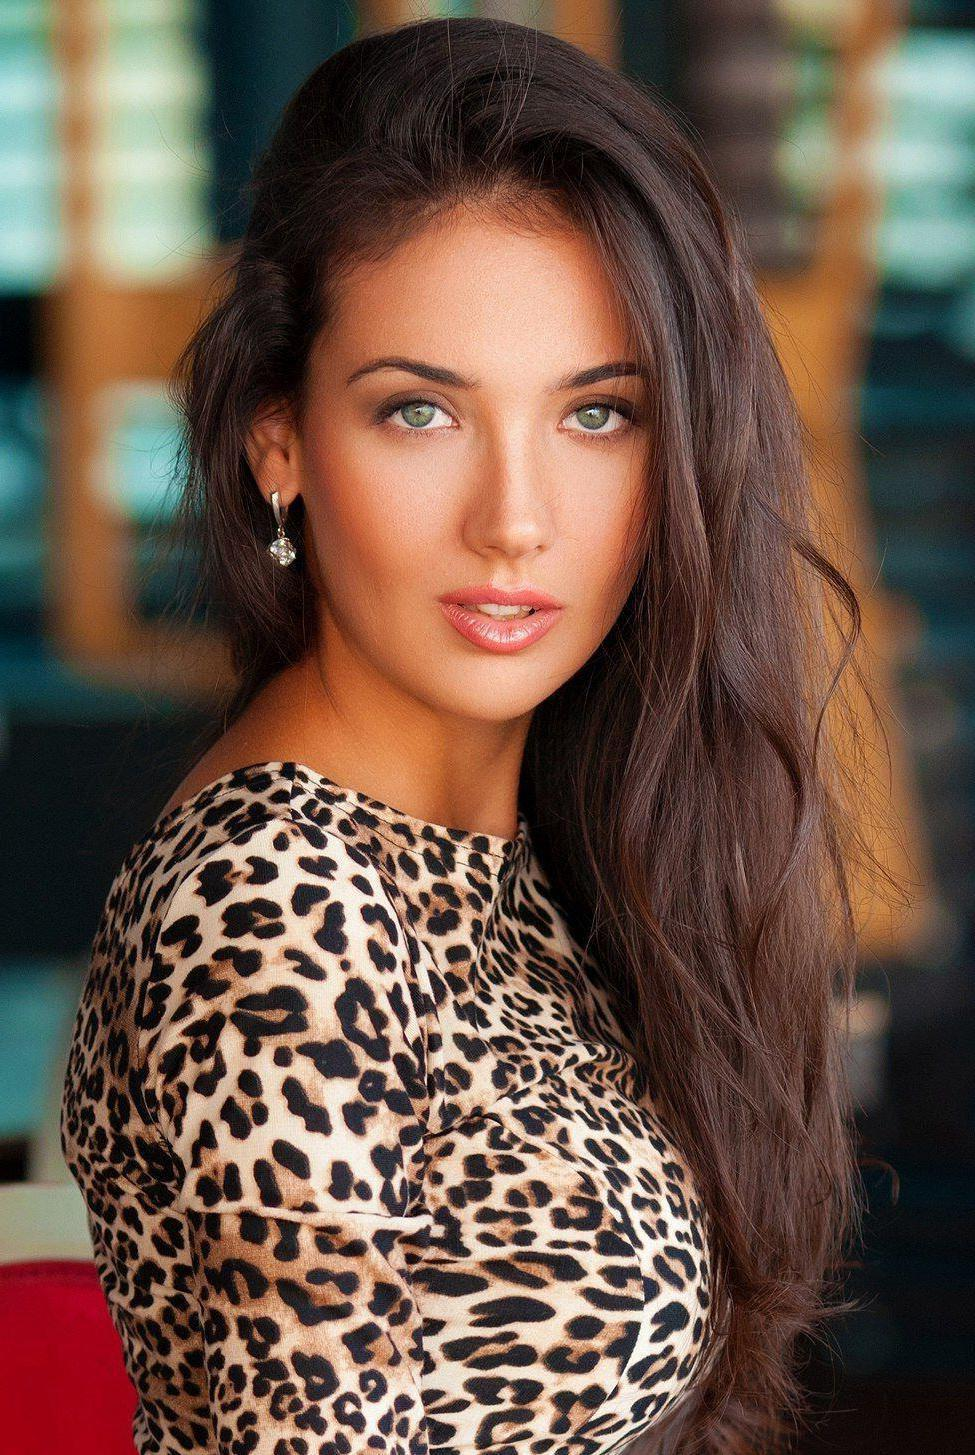Sober: (321, 231, 637, 698)
